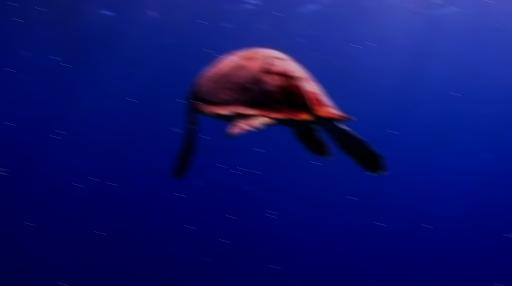Fish: (175, 48, 384, 178)
